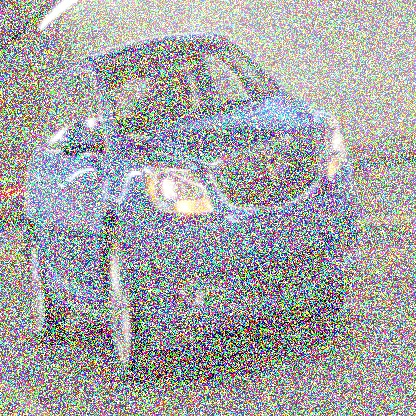Vehicle: (25, 30, 364, 383)
